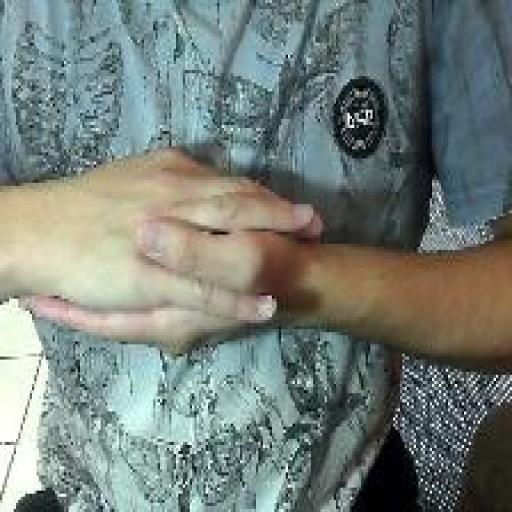Saru -monkey-: (12, 142, 329, 364)
